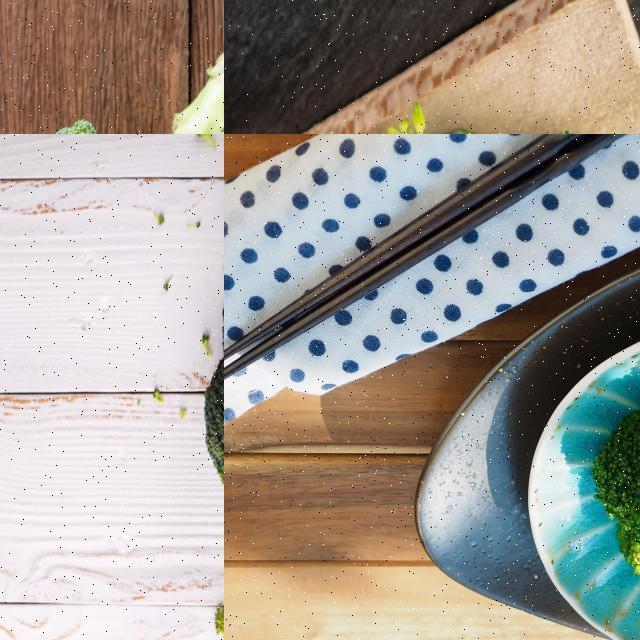broccoli: (9, 29, 223, 133), (345, 85, 639, 133), (591, 399, 639, 546)
